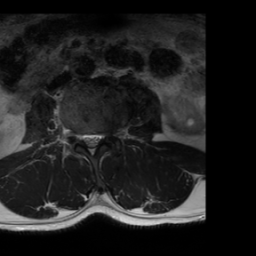CCS_normal: (87, 125, 94, 160)
LFS_stenosis: (103, 124, 112, 147)
LLS_stenosis: (94, 125, 103, 149)
RFS_normal: (73, 124, 81, 147)
RLS_normal: (80, 125, 87, 150)
